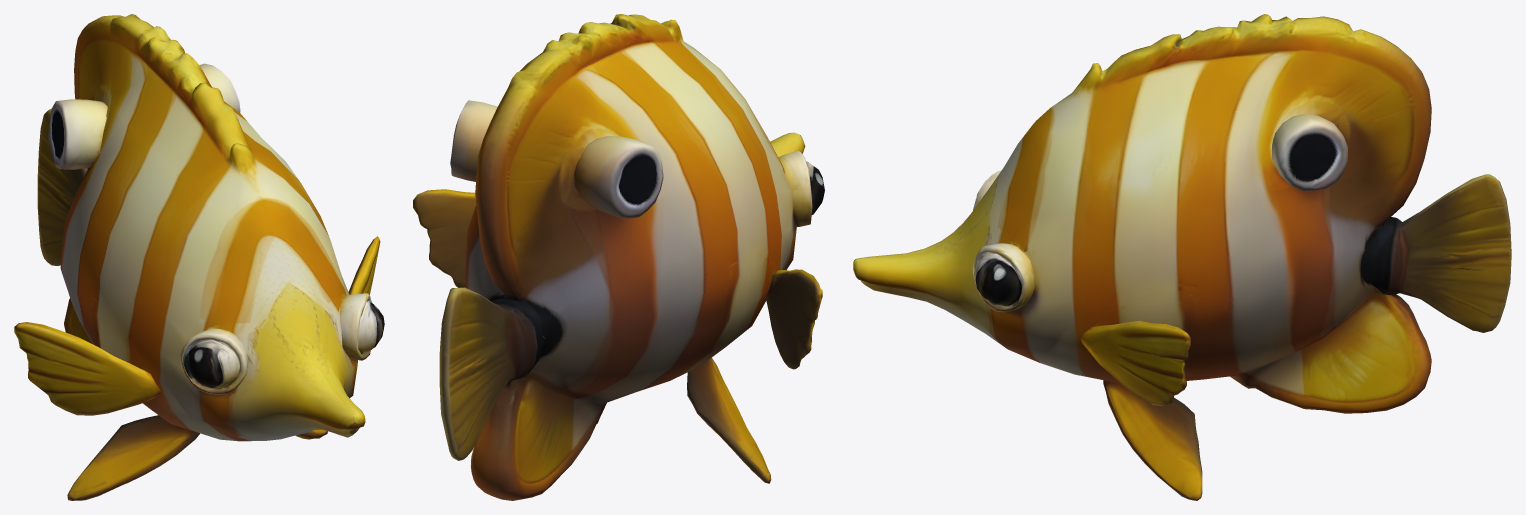
Rendered from golden-fish.glb.
3 renders of one model, left to right at view 1: azimuth 30°, elevation 25°; view 2: azimuth 150°, elevation 25°; view 3: azimuth 270°, elevation 25°, orthographic. The views are drawn at different scales.
Visible parts, largest first — view 1: tripo_node_72273458-31bc-4d42-b476-765dd64d3ba8; view 2: tripo_node_72273458-31bc-4d42-b476-765dd64d3ba8; view 3: tripo_node_72273458-31bc-4d42-b476-765dd64d3ba8.
Boxes of the visible parts, left/top/right/bottom form: tripo_node_72273458-31bc-4d42-b476-765dd64d3ba8: left=14, top=14, right=384, bottom=500; tripo_node_72273458-31bc-4d42-b476-765dd64d3ba8: left=413, top=14, right=824, bottom=500; tripo_node_72273458-31bc-4d42-b476-765dd64d3ba8: left=853, top=14, right=1511, bottom=500.
Bounding box in the file's own units: 0.6621 × 0.6973 × 0.998.
Materials: 1 (1 with a texture image).
